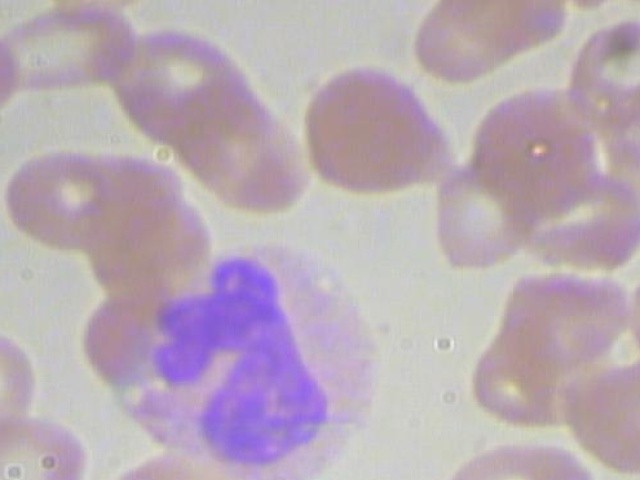RBC: (295, 64, 449, 204), (0, 0, 143, 112), (0, 142, 129, 251), (424, 157, 542, 270), (529, 161, 640, 276), (567, 13, 640, 126), (441, 433, 600, 480), (442, 0, 569, 57), (0, 405, 92, 480), (0, 320, 41, 435), (0, 21, 17, 141)
WBC: (89, 234, 396, 480)
